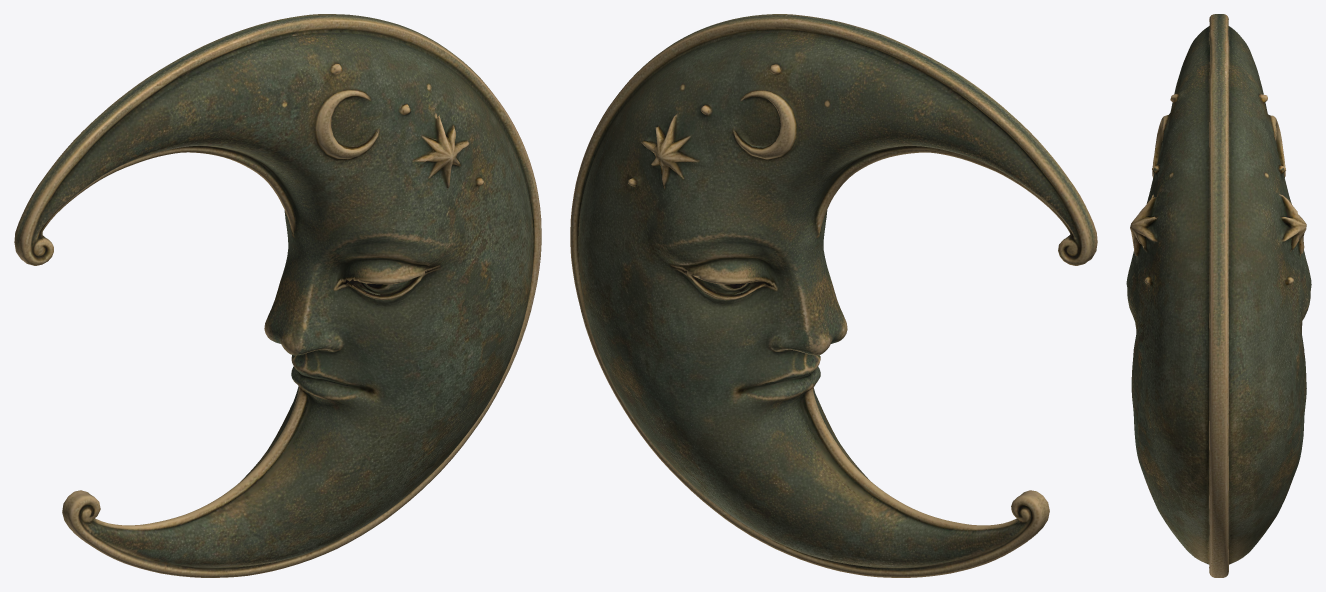
File: tripo_convert_dcea18e0-012d-4630-81b4-5a0acf66e9ea.fbx
3 renders of one model, left to right at view 1: azimuth 30°, elevation 25°; view 2: azimuth 150°, elevation 25°; view 3: azimuth 270°, elevation 25°, orthographic. The views are drawn at different scales.
Visible parts, largest first — view 1: tripo_node_dcea18e0; view 2: tripo_node_dcea18e0; view 3: tripo_node_dcea18e0.
Boxes of the visible parts, x1,y1,x2,y2 form: tripo_node_dcea18e0: [14, 14, 541, 577]; tripo_node_dcea18e0: [570, 14, 1097, 577]; tripo_node_dcea18e0: [1126, 14, 1311, 577].
Bounding box in the file's own units: 0.9783 × 0.9772 × 0.3241.
Materials: 1 (1 with a texture image).
